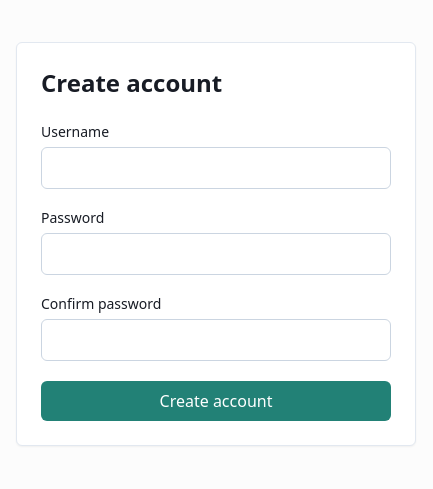
AuthForm › shows signup validation when username is missing
Type "long-enough" into the password field labelled "Password" at [216, 254], box [41, 233, 391, 275]
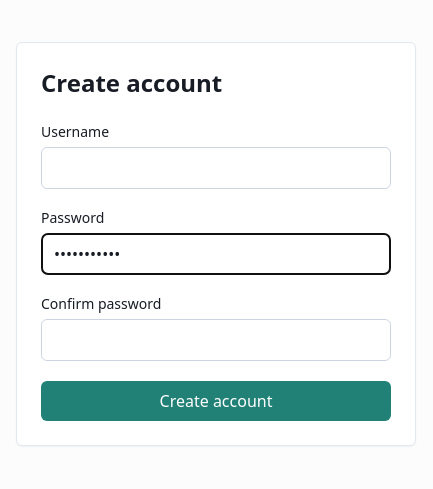
Type "long-enough" into the password field labelled "Confirm password" at [216, 340], box [41, 319, 391, 361]
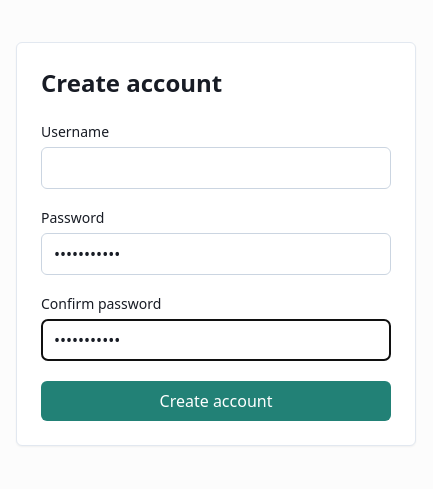
Click the button "Create account" at [216, 401], box [41, 381, 391, 421]
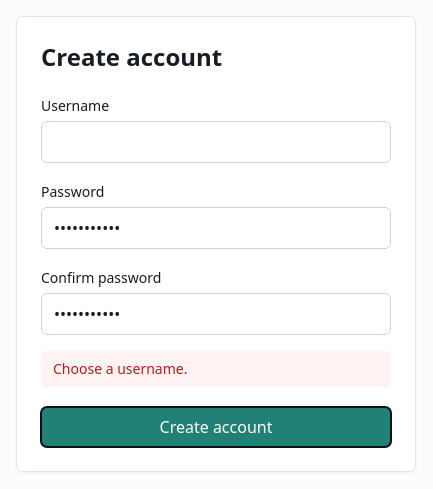
Expected: the message reads "Choose a username.", [53, 359, 188, 378]
